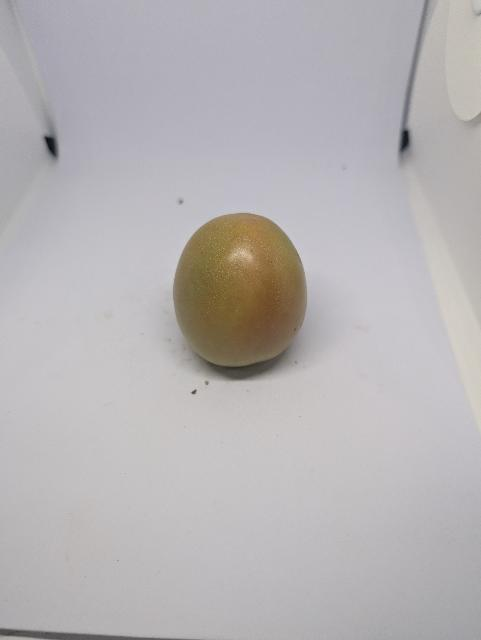breaker: (173, 213, 307, 367)
